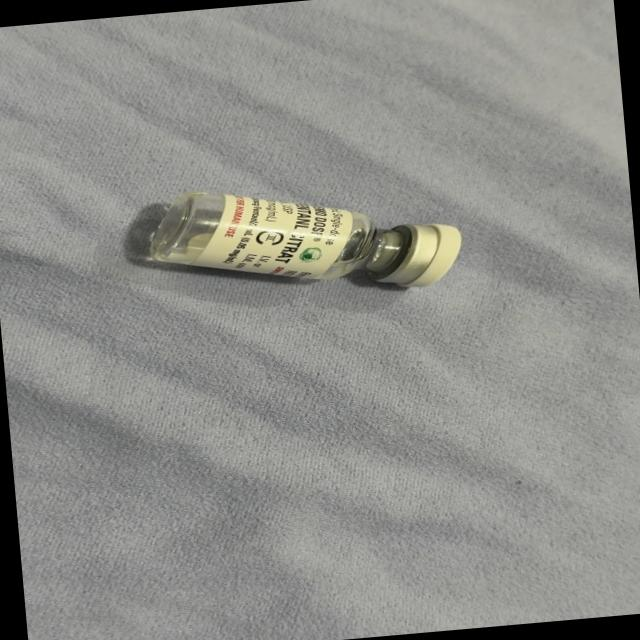fentanl_citrat: (140, 170, 458, 309)
